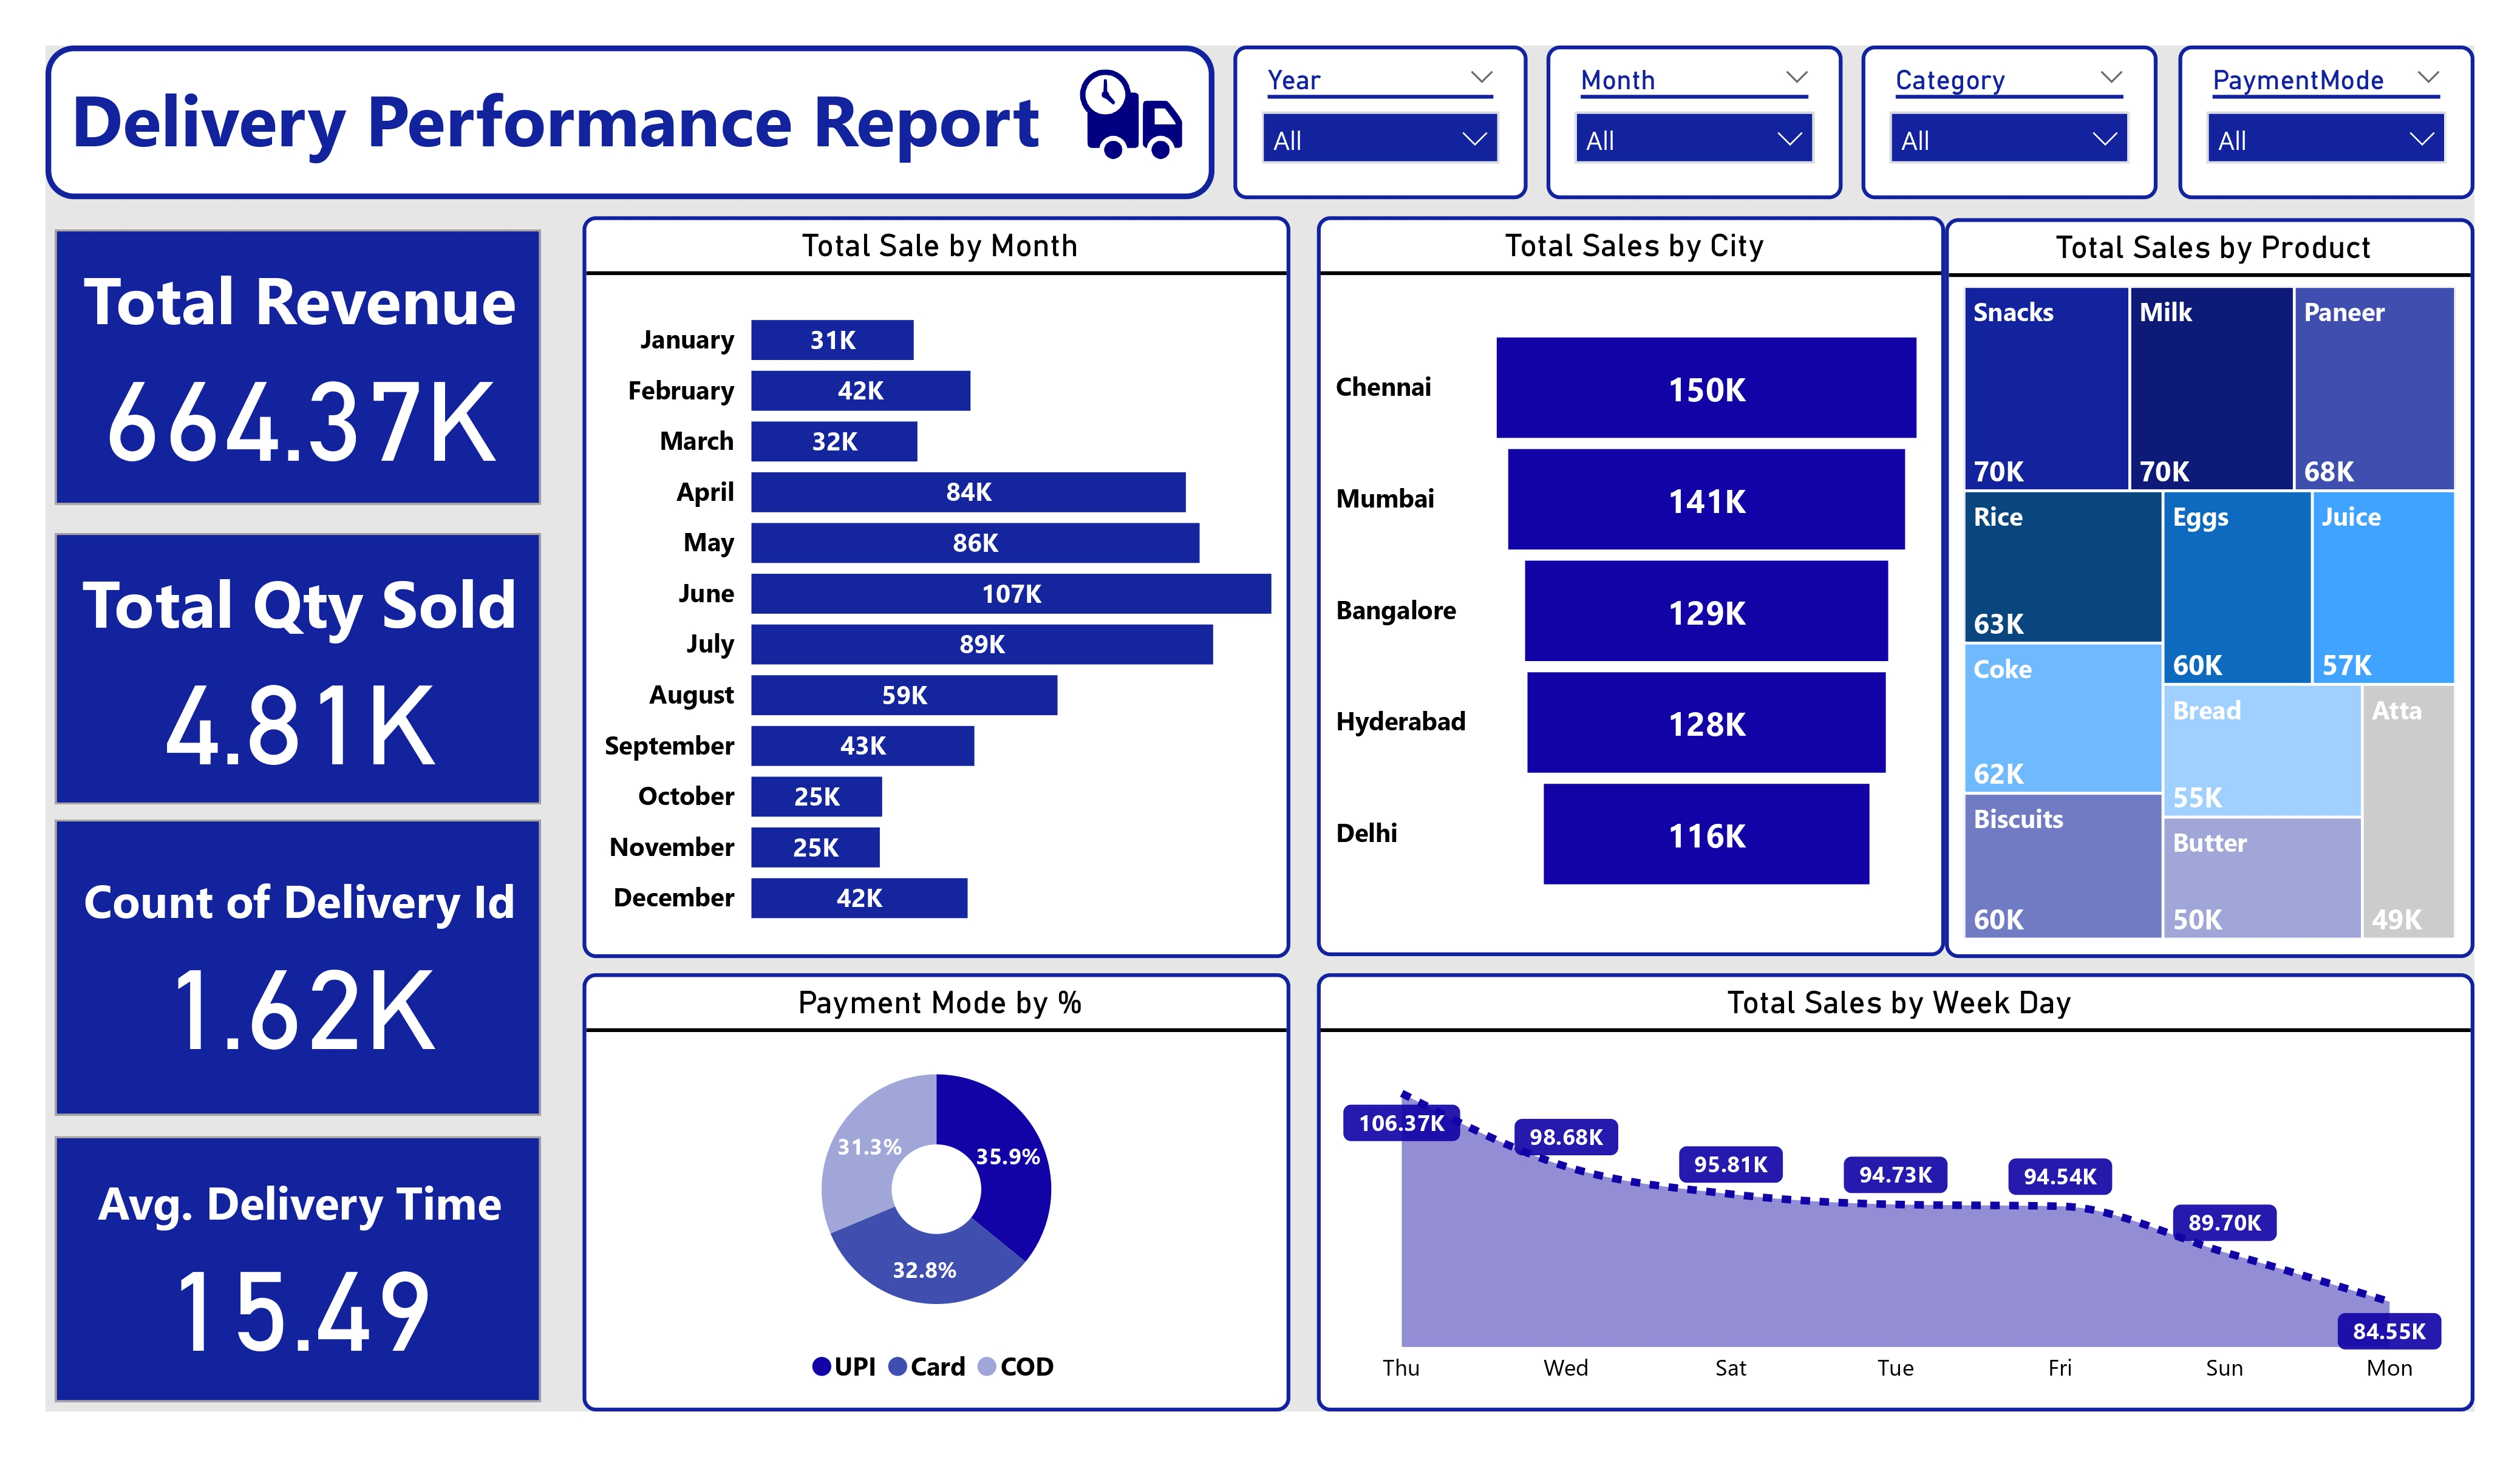

What the dashboard file says about the page in this screenshot:
{"tool":"powerbi","page":{"name":"Dashboard","canvas":[1280,720],"ordinal":0},"visuals":[{"type":"textbox","box":[0,0,615.7,81.4],"z":0},{"type":"slicer","fields":{"Values":["Order.Category"]},"box":[957.1,0,155.7,81.4],"z":1000},{"type":"slicer","fields":{"Values":["Order.Date.Variation.Date Hierarchy.Month"]},"box":[791.4,0,155.7,81.4],"z":2000},{"type":"slicer","fields":{"Values":["Order.Date.Variation.Date Hierarchy.Year"]},"box":[625.7,0,155.7,81.4],"z":3000},{"type":"slicer","fields":{"Values":["Order.PaymentMode"]},"box":[1124.3,0,155.7,81.4],"z":4000},{"type":"cardVisual","fields":{"Data":["Sum(Order.Total Sales)"]},"box":[0,91.7,266.7,155],"z":5000},{"type":"cardVisual","fields":{"Data":["Sum(Order.Quantity)"]},"box":[0,251.7,266.7,153.3],"z":6000},{"type":"cardVisual","fields":{"Data":["Avg(Order.DeliveryTime(min))"]},"box":[0,570,266.7,150],"z":7000},{"type":"cardVisual","fields":{"Data":["CountNonNull(Order.Delivery Id)"]},"box":[0,403.3,266.7,166.7],"z":8000},{"type":"clusteredBarChart","title":"Total Sale by Month","fields":{"Category":["Order.Date.Variation.Date Hierarchy.Month"],"Y":["Sum(Order.Total Sales)"]},"box":[282.9,90,372.9,391.4],"z":9000},{"type":"donutChart","title":"Payment Mode by %","fields":{"Category":["Order.PaymentMode"],"Y":["Sum(Order.Total Sales)"]},"box":[282.9,488.6,372.9,231.4],"z":10000},{"type":"funnel","title":"Total Sales by City","fields":{"Category":["City.City"],"Y":["Sum(Order.Total Sales)"]},"box":[670,90,331.2,390],"z":11000},{"type":"treemap","title":"Total Sales by Product","fields":{"Group":["Product.Product"],"Values":["Sum(Order.Total Sales)"]},"box":[1001.2,91.2,278.8,390],"z":12000},{"type":"lineChart","title":"Total Sales by Week Day","fields":{"Category":["Order.Day Name"],"Y":["Sum(Order.Total Sales)"]},"box":[670,488.8,610,231.2],"z":13000},{"type":"image","box":[540,0,64.3,71.4],"z":14000}]}

Visuals, with their boxes in screenshot pixels (x1, y1, x2, y2):
textbox: left=46, top=46, right=1214, bottom=200
slicer - Order.Category: left=1862, top=46, right=2157, bottom=200
slicer - Order.Date.Variation.Date Hierarchy.Month: left=1547, top=46, right=1843, bottom=200
slicer - Order.Date.Variation.Date Hierarchy.Year: left=1233, top=46, right=1528, bottom=200
slicer - Order.PaymentMode: left=2179, top=46, right=2474, bottom=200
cardVisual - Sum(Order.Total Sales): left=46, top=220, right=551, bottom=514
cardVisual - Sum(Order.Quantity): left=46, top=523, right=551, bottom=814
cardVisual - Avg(Order.DeliveryTime(min)): left=46, top=1127, right=551, bottom=1411
cardVisual - CountNonNull(Order.Delivery Id): left=46, top=810, right=551, bottom=1127
"Total Sale by Month" clusteredBarChart: left=582, top=216, right=1290, bottom=959
"Payment Mode by %" donutChart: left=582, top=973, right=1290, bottom=1411
"Total Sales by City" funnel: left=1317, top=216, right=1946, bottom=956
"Total Sales by Product" treemap: left=1946, top=219, right=2474, bottom=959
"Total Sales by Week Day" lineChart: left=1317, top=973, right=2474, bottom=1411
image: left=1070, top=46, right=1192, bottom=181
